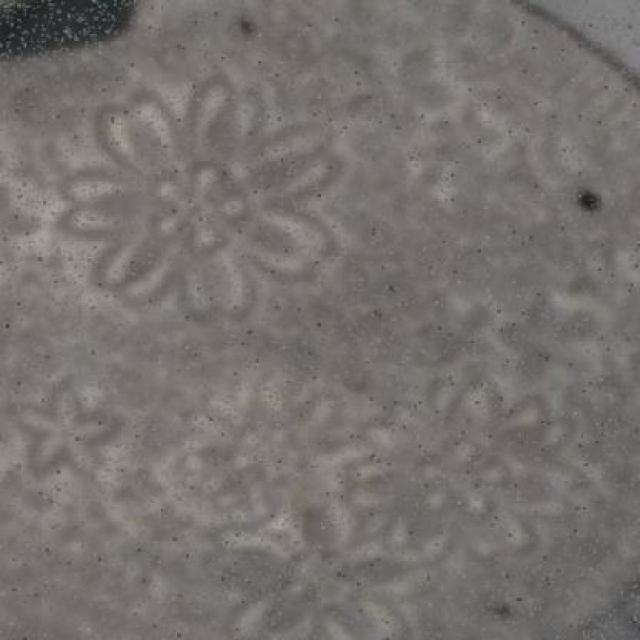Manhole: (7, 2, 632, 625)
